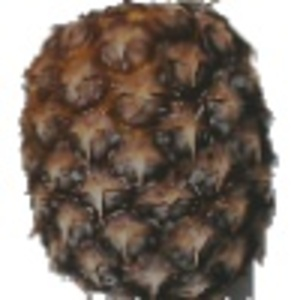abacaxi: (17, 4, 281, 299)
